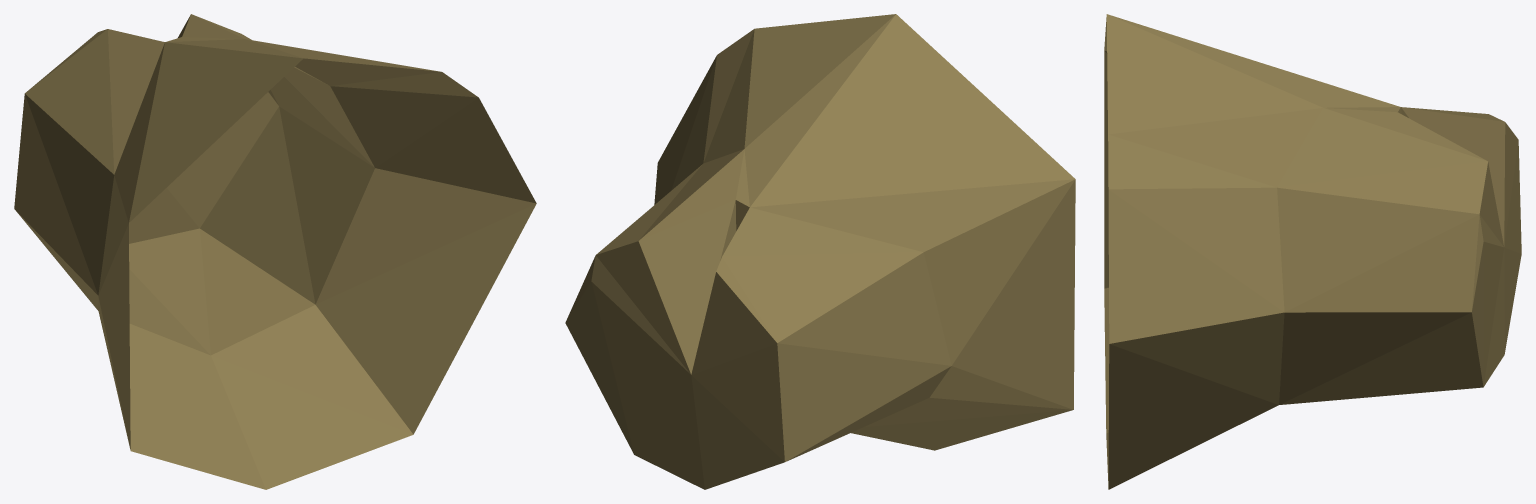
The model's file is LowPoly - Trunk 02.fbx.
The picture shows the model from 3 angles, left to right: view 1: azimuth 30°, elevation 25°; view 2: azimuth 150°, elevation 25°; view 3: azimuth 270°, elevation 25°; orthographic projection. The views are drawn at different scales.
Parts seen in each view (by area): view 1: LowPoly - Trunk 02; view 2: LowPoly - Trunk 02; view 3: LowPoly - Trunk 02.
Part boxes in pixels (x1,y1,x2,y2): LowPoly - Trunk 02: [14, 14, 536, 489]; LowPoly - Trunk 02: [565, 14, 1075, 489]; LowPoly - Trunk 02: [1104, 14, 1521, 489].
Bounding box in the file's own units: 127 × 124 × 107.
